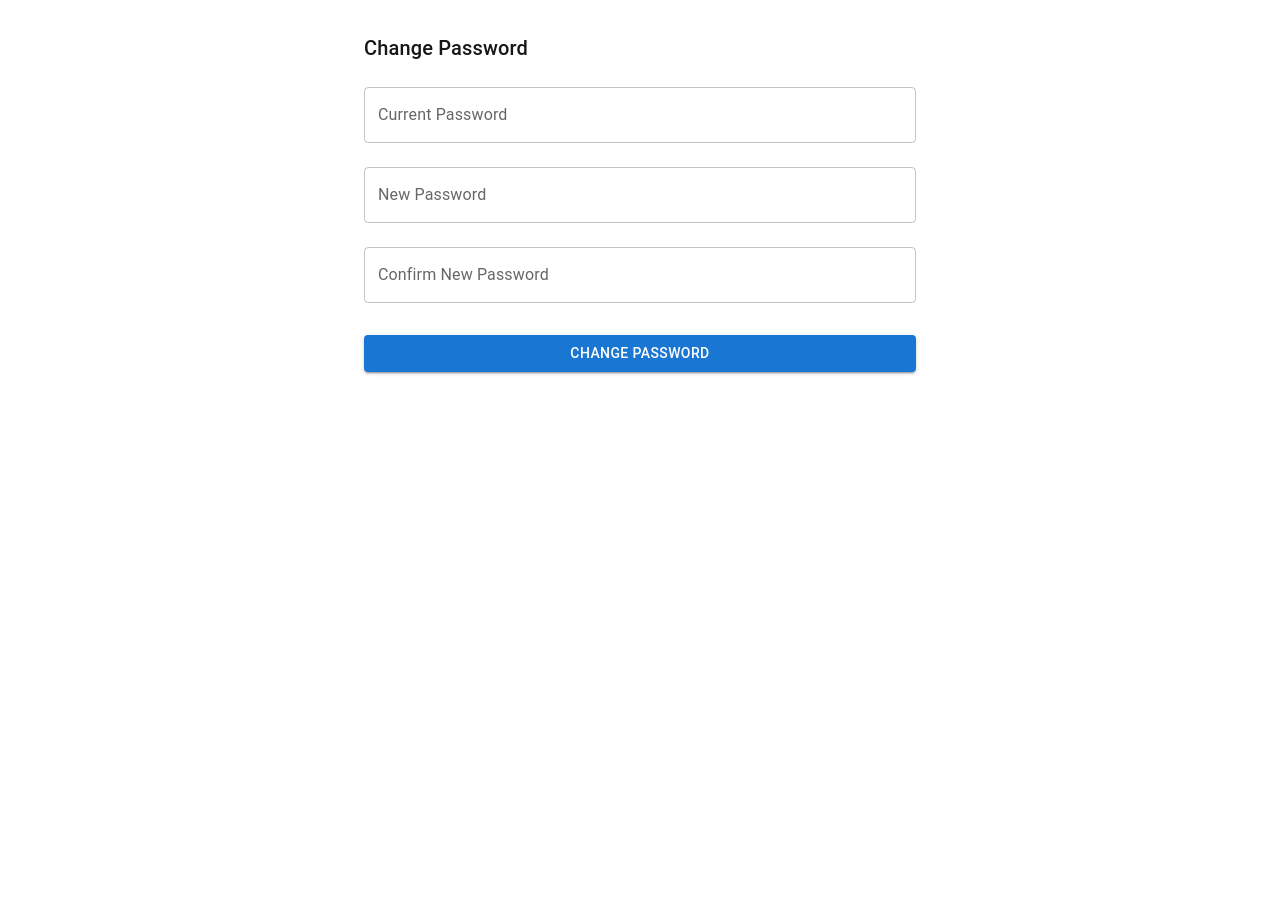
Scenario: ChangePasswordPage Integration › successfully changes password and redirects to login
Type "CurrentPassword123!" into the password field labelled "Current Password" at coordinates (640, 115), box [364, 87, 916, 143]
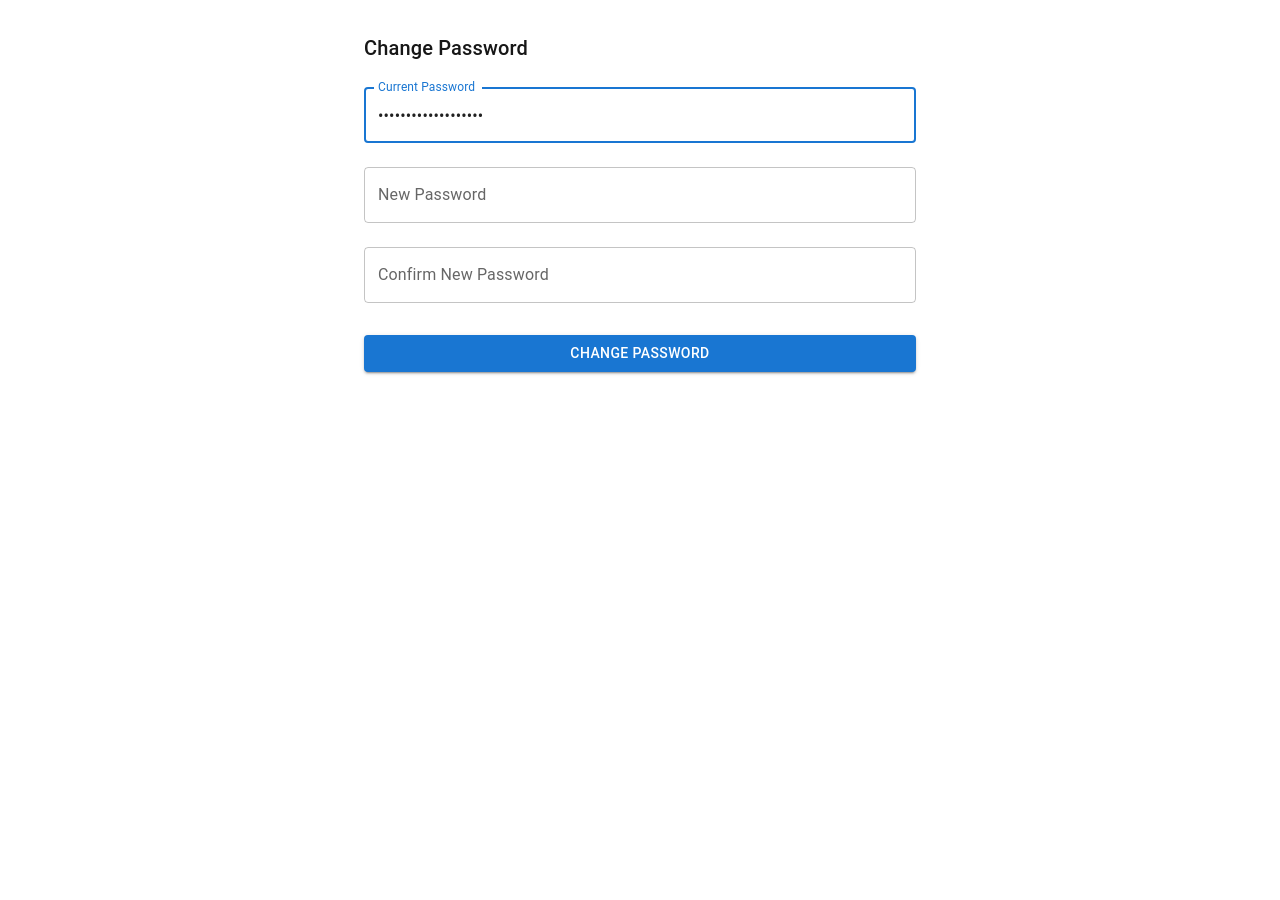
Type "NewPassword456!" into the password field labelled "New Password" at coordinates (640, 195), box [364, 167, 916, 223]
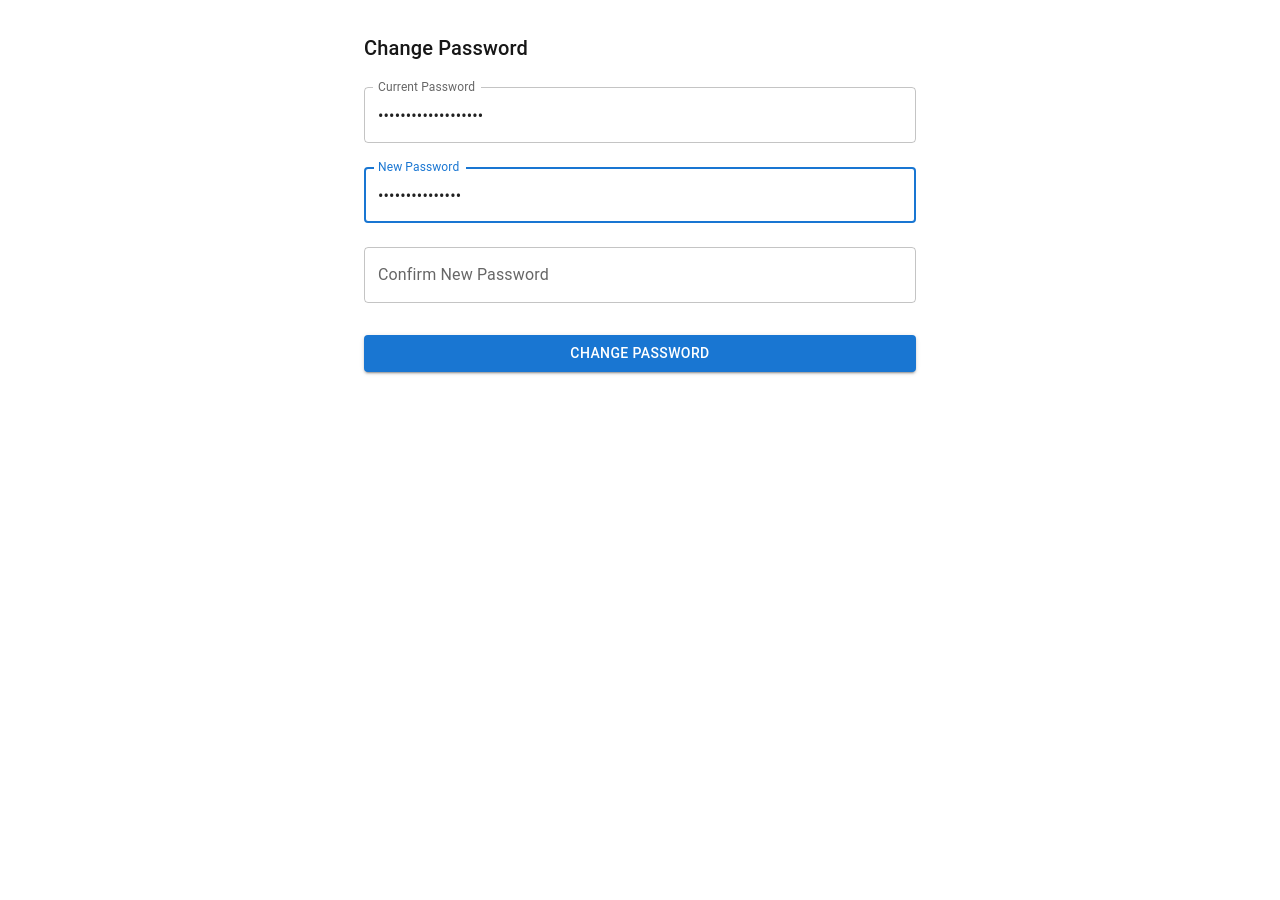
Type "NewPassword456!" into the password field labelled "Confirm New Password" at coordinates (640, 275), box [364, 247, 916, 303]
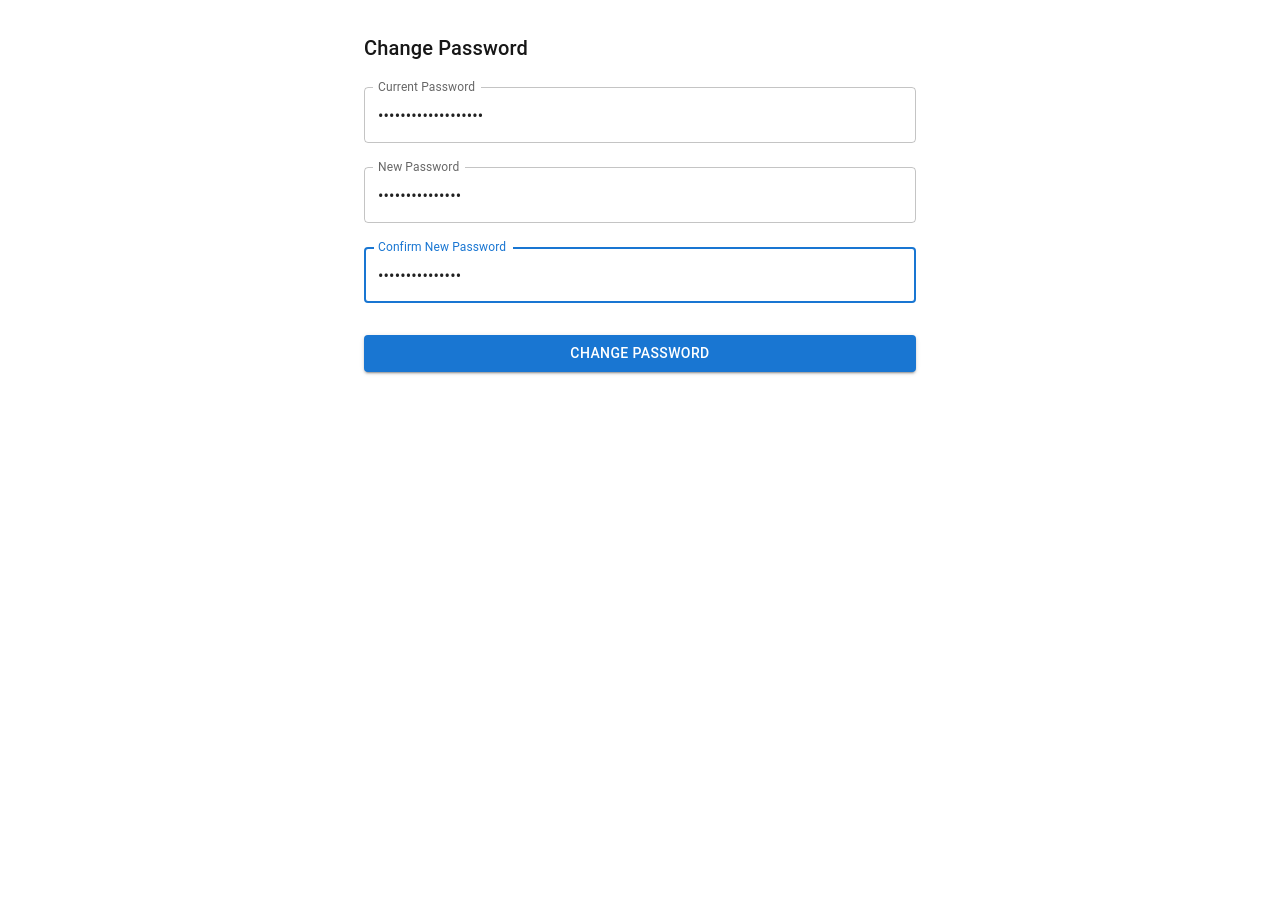
Click the button "Change Password" at coordinates (640, 353), box [364, 335, 916, 372]
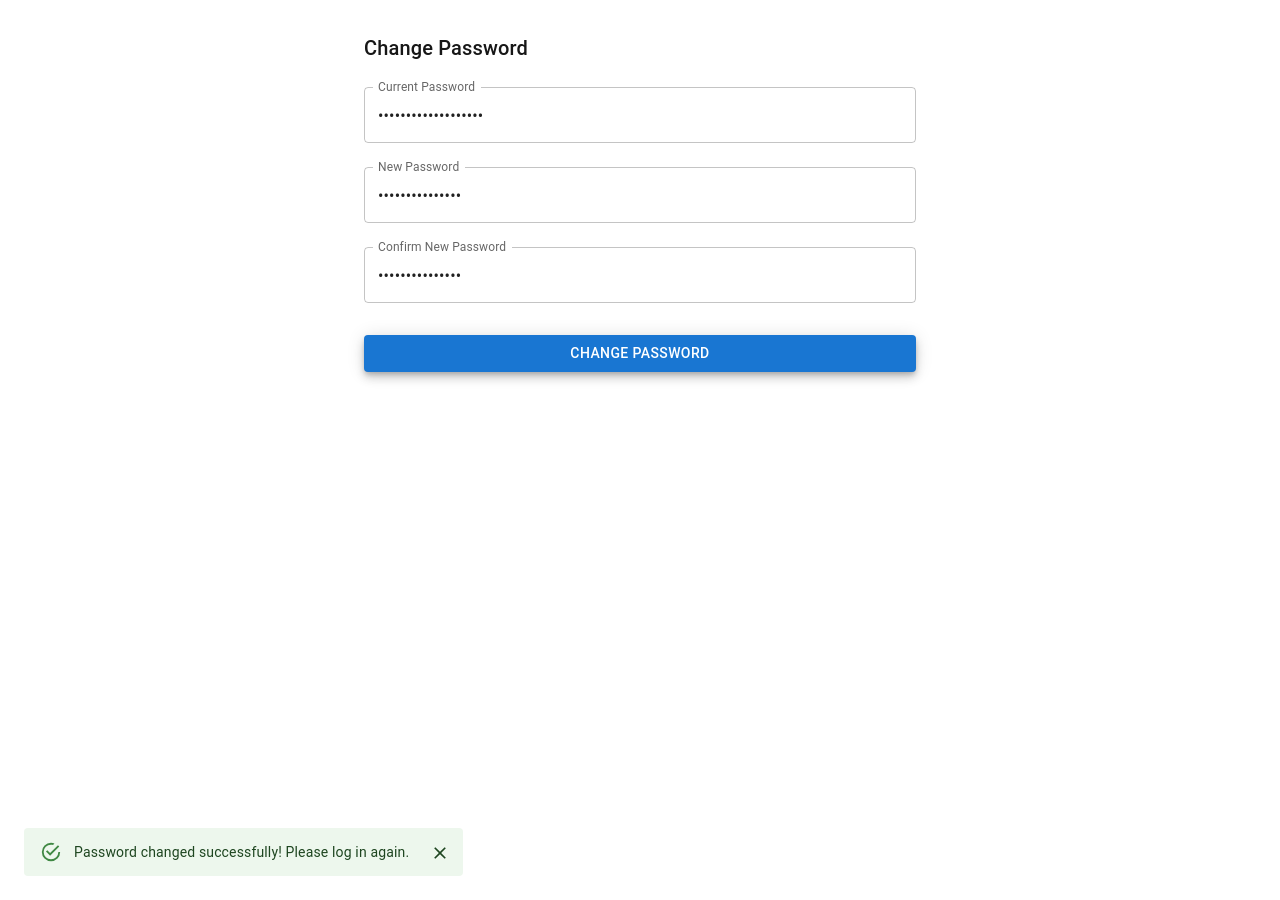
Check: the text "Password changed successfully! Please log in again." is shown, box [74, 844, 409, 860]
